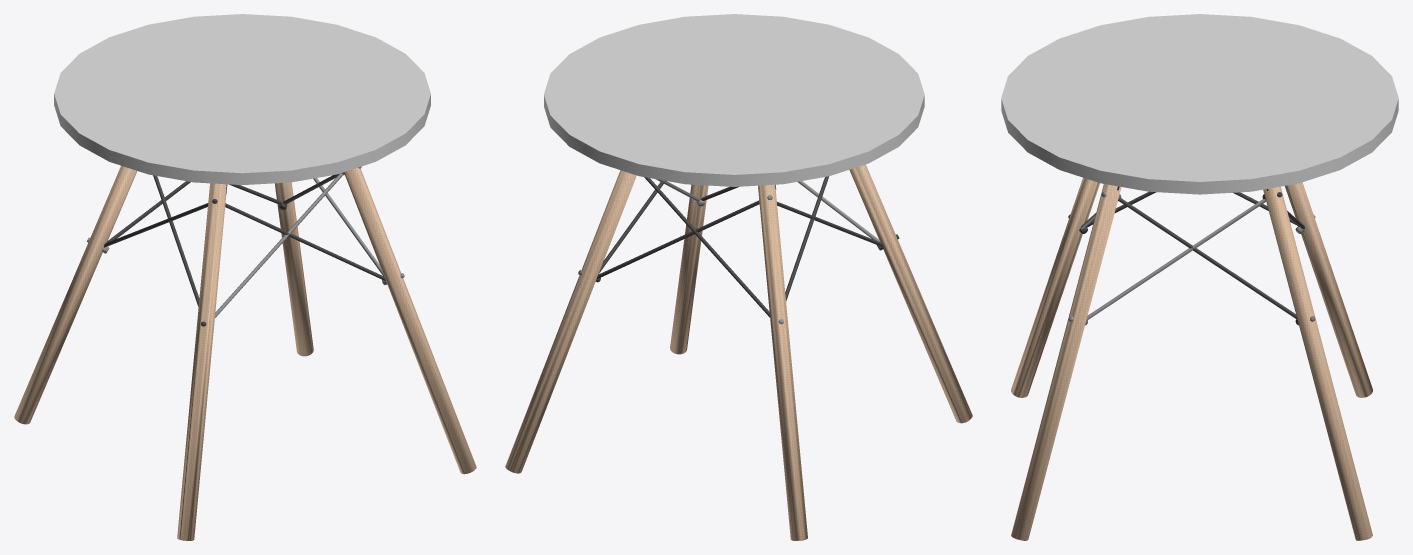
The model's file is Delta Coffee table.FBX.
3 views of the same model, side by side, from view 1: azimuth 30°, elevation 25°; view 2: azimuth 150°, elevation 25°; view 3: azimuth 270°, elevation 25° (orthographic). The views are drawn at different scales.
Parts seen in each view (by area): view 1: Group_002, Cylin8_002, Cylin4_002, Cylin17_002, Cylin14_002, Line2_002, Line7_002, Line3_002; view 2: Group_002, Cylin17_002, Cylin14_002, Cylin8_002, Cylin4_002, Line5_002, Line6_002, Line4_002; view 3: Group_002, Cylin4_002, Cylin14_002, Cylin8_002, Cylin17_002, Line_002, Line1_002.
Part boxes in pixels (box(x1,y1,x2,y2)): Group_002: box(54, 14, 430, 184); Cylin8_002: box(177, 183, 226, 540); Cylin4_002: box(344, 167, 476, 474); Cylin17_002: box(14, 165, 137, 424); Cylin14_002: box(274, 182, 313, 356); Line2_002: box(215, 173, 343, 317); Line7_002: box(225, 203, 385, 280); Line3_002: box(153, 175, 199, 306); Group_002: box(544, 14, 924, 186); Cylin17_002: box(758, 184, 807, 540); Cylin14_002: box(505, 170, 636, 473); Cylin8_002: box(849, 164, 972, 423); Cylin4_002: box(670, 184, 708, 354); Line5_002: box(644, 177, 769, 317); Line6_002: box(596, 200, 759, 278); Line4_002: box(785, 176, 828, 301); Group_002: box(1001, 14, 1398, 194); Cylin4_002: box(1011, 184, 1121, 540); Cylin14_002: box(1263, 186, 1372, 540); Cylin8_002: box(1011, 177, 1099, 397); Cylin17_002: box(1285, 182, 1372, 397); Line_002: box(1086, 199, 1266, 320); Line1_002: box(1118, 198, 1297, 319).
Size of the model in its own units: 700 by 720 by 700.
Materials: 6 (2 with a texture image).
